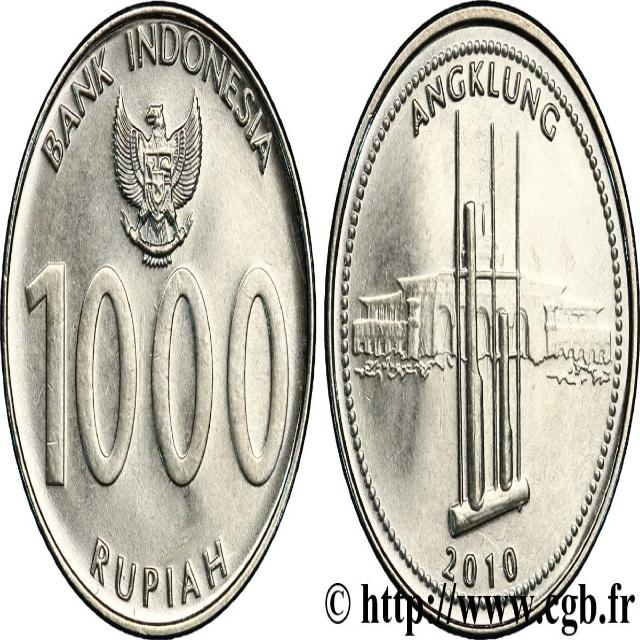1000-angklung: (3, 2, 319, 638)
